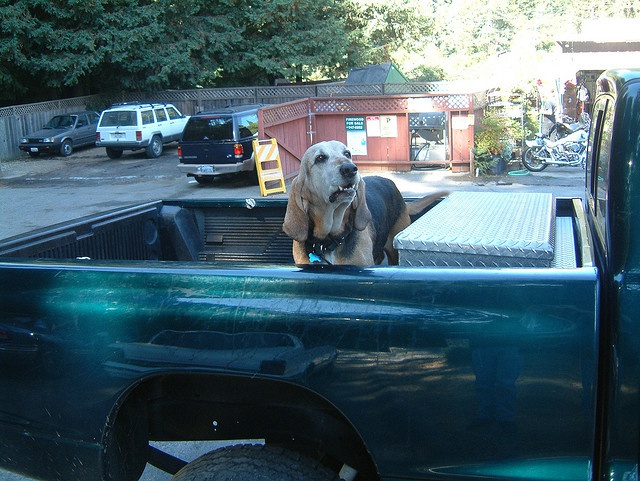non-vehicle: (521, 128, 588, 172), (547, 112, 590, 142)
